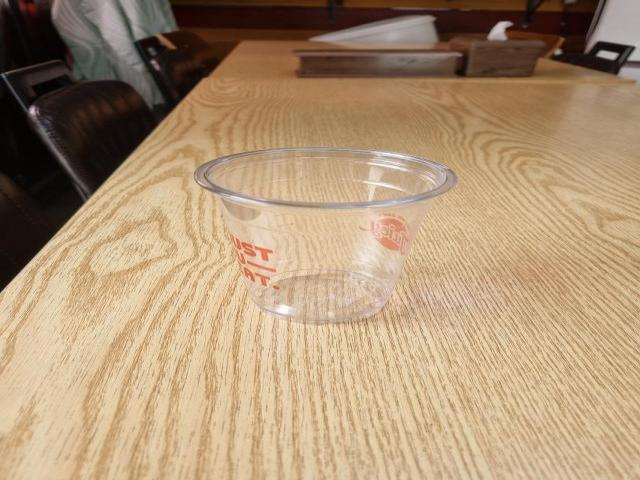cup: (181, 138, 469, 330)
